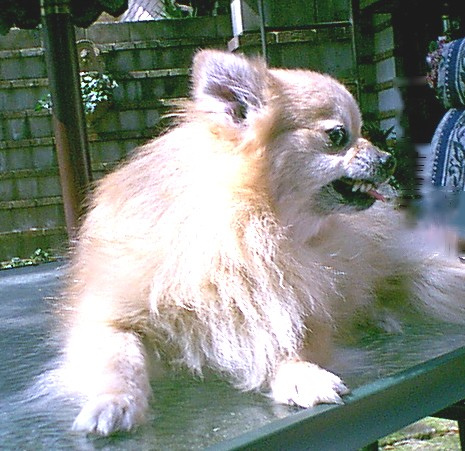dog: (42, 47, 465, 438)
